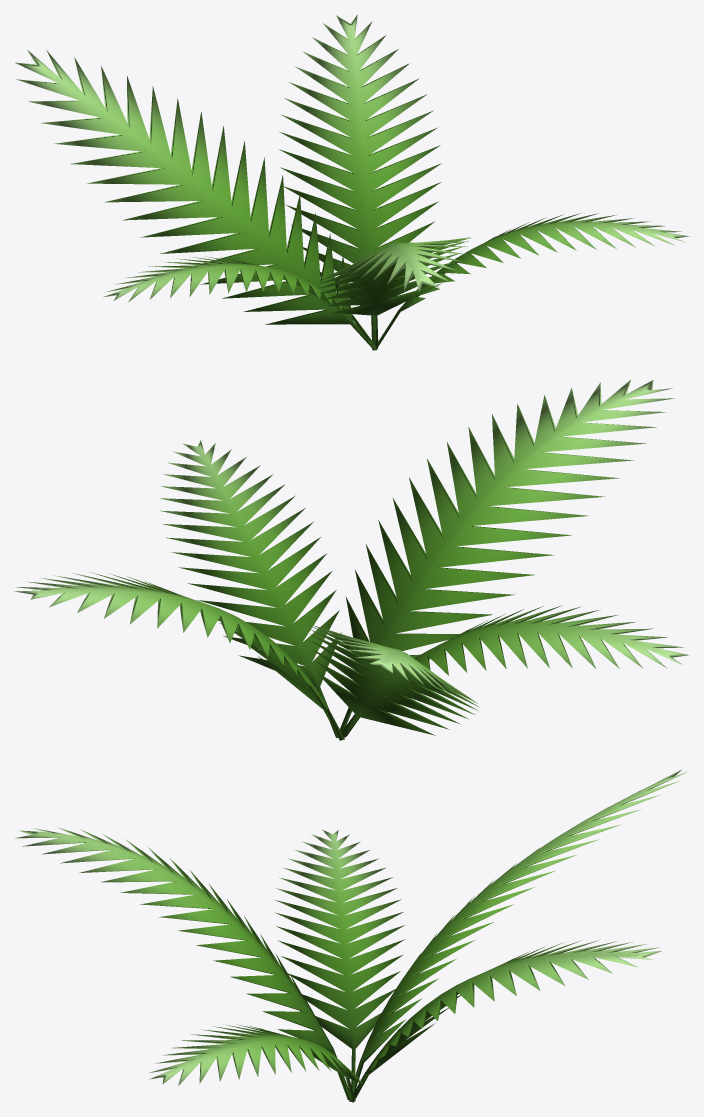
3 views of the same model, one above another, from view 1: azimuth 30°, elevation 25°; view 2: azimuth 150°, elevation 25°; view 3: azimuth 270°, elevation 25° (orthographic). The views are drawn at different scales.
Parts seen in each view (by area): view 1: fp03; view 2: fp03; view 3: fp03.
Part boxes in pixels (box(x1,y1,x2,y2)): fp03: box(15, 14, 689, 350); fp03: box(14, 379, 689, 740); fp03: box(15, 770, 688, 1102).
Size of the model in its own units: 90.08 by 38.92 by 101.
